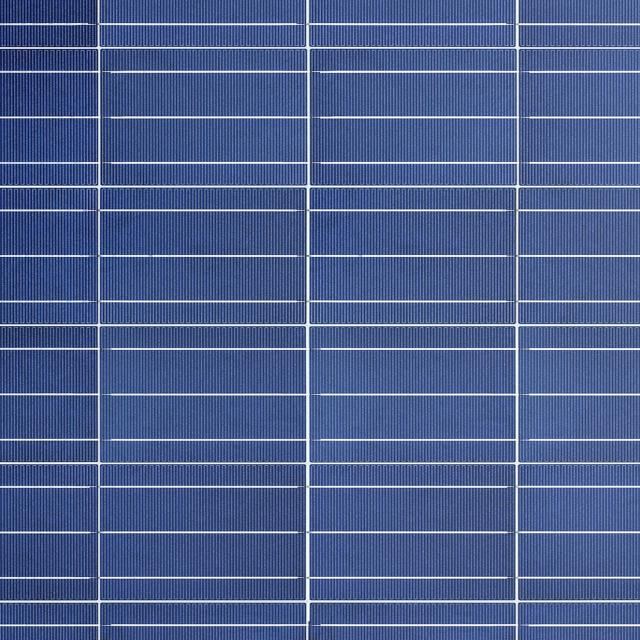dust-solar-panel: (4, 0, 638, 640)
